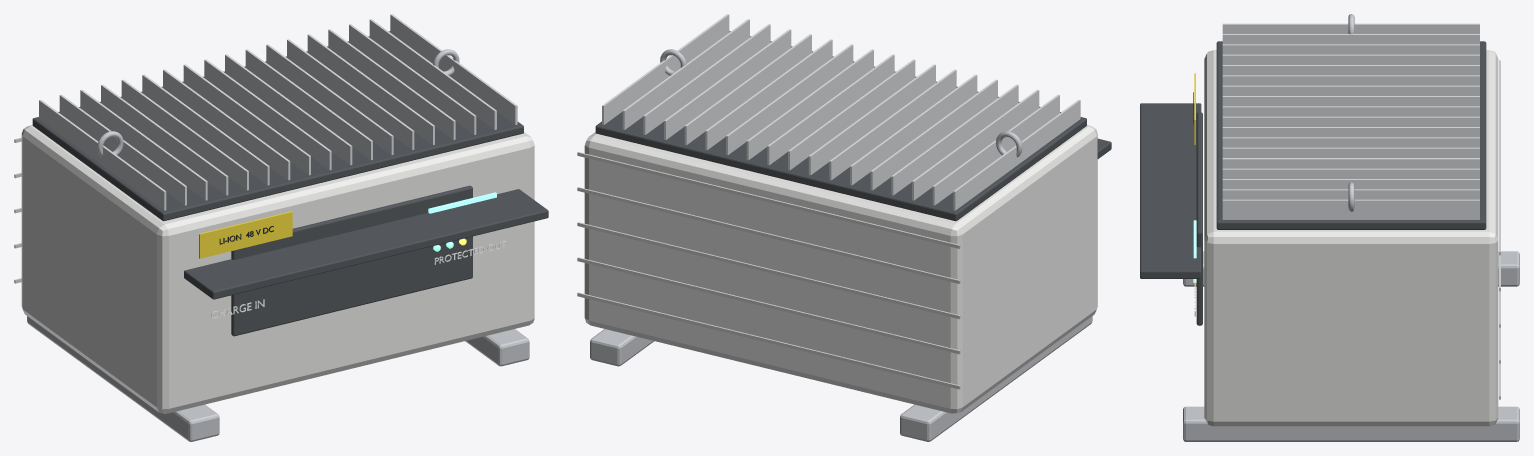
File: battery-cabinet.glb
3 renders of one model, left to right at view 1: azimuth 30°, elevation 25°; view 2: azimuth 150°, elevation 25°; view 3: azimuth 270°, elevation 25°, orthographic. The views are drawn at different scales.
Parts seen in each view (by area): view 1: cabinet, front_panel, terminal_shelf, radiator_base, fin, fin.006, fin.003, fin.009, fin.008, fin.010, fin.012, fin.015 (+13 smaller); view 2: cabinet, radiator_base, fin, fin.007, fin.003, fin.004, fin.011, fin.008, fin.009, fin.010, fin.013, fin.015 (+15 smaller); view 3: cabinet, terminal_shelf, skid.001, fin.017, radiator_base, fin.002, fin.005, fin.008, fin.011, fin.013, fin.001, fin.003 (+13 smaller).
Part boxes in pixels (bbox=[...]): cabinet: bbox=[21, 125, 534, 413]; front_panel: bbox=[231, 185, 472, 336]; terminal_shelf: bbox=[184, 189, 548, 299]; radiator_base: bbox=[32, 31, 523, 221]; fin: bbox=[39, 100, 166, 210]; fin.006: bbox=[163, 69, 290, 180]; fin.003: bbox=[101, 84, 228, 195]; fin.009: bbox=[225, 54, 352, 165]; fin.008: bbox=[204, 59, 331, 170]; fin.010: bbox=[245, 49, 372, 160]; fin.012: bbox=[287, 39, 414, 150]; fin.015: bbox=[349, 24, 476, 134]; cabinet: bbox=[584, 125, 1097, 413]; radiator_base: bbox=[595, 31, 1086, 221]; fin: bbox=[953, 99, 1080, 210]; fin.007: bbox=[808, 64, 935, 175]; fin.003: bbox=[891, 84, 1018, 195]; fin.004: bbox=[870, 79, 997, 190]; fin.011: bbox=[726, 44, 853, 155]; fin.008: bbox=[788, 59, 915, 170]; fin.009: bbox=[767, 54, 894, 165]; fin.010: bbox=[746, 49, 873, 160]; fin.013: bbox=[684, 34, 811, 145]; fin.015: bbox=[643, 24, 770, 134]; cabinet: bbox=[1204, 50, 1498, 426]; terminal_shelf: bbox=[1140, 103, 1201, 278]; skid.001: bbox=[1183, 406, 1519, 441]; fin.017: bbox=[1222, 199, 1479, 219]; radiator_base: bbox=[1216, 41, 1486, 229]; fin.002: bbox=[1222, 44, 1479, 54]; fin.005: bbox=[1222, 75, 1479, 85]; fin.008: bbox=[1222, 106, 1479, 116]; fin.011: bbox=[1222, 137, 1479, 147]; fin.013: bbox=[1222, 158, 1479, 168]; fin.001: bbox=[1222, 34, 1479, 44]; fin.003: bbox=[1222, 54, 1479, 64].
Size of the model in its own units: 1.48 by 0.93 by 1.24.
